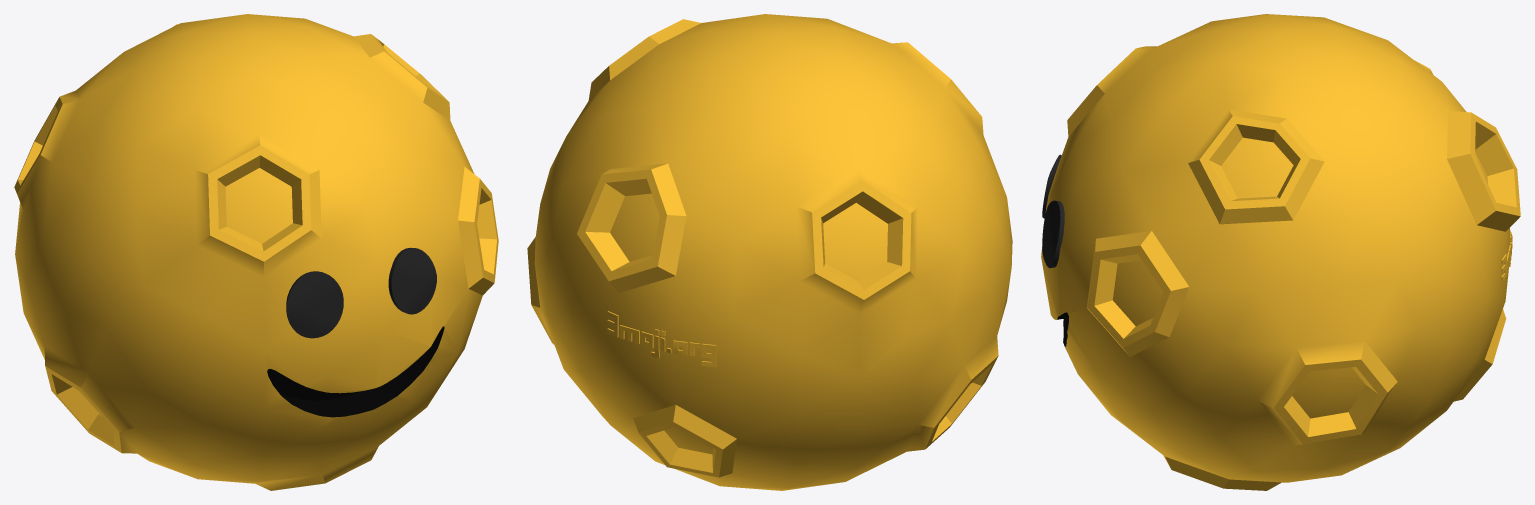
File: full_moon_face.gltf
The picture shows the model from 3 angles, left to right: view 1: azimuth 30°, elevation 25°; view 2: azimuth 150°, elevation 25°; view 3: azimuth 270°, elevation 25°; orthographic projection.
Parts seen in each view (by area): view 1: Icosphere.009; view 2: Icosphere.009; view 3: Icosphere.009.
Part boxes in pixels (left/top/right/bottom): Icosphere.009: left=14, top=14, right=498, bottom=490; Icosphere.009: left=527, top=14, right=1012, bottom=490; Icosphere.009: left=1041, top=14, right=1520, bottom=490.
Size of the model in its own units: 2.03 by 2.04 by 2.03.
1 material, 1 textured.
